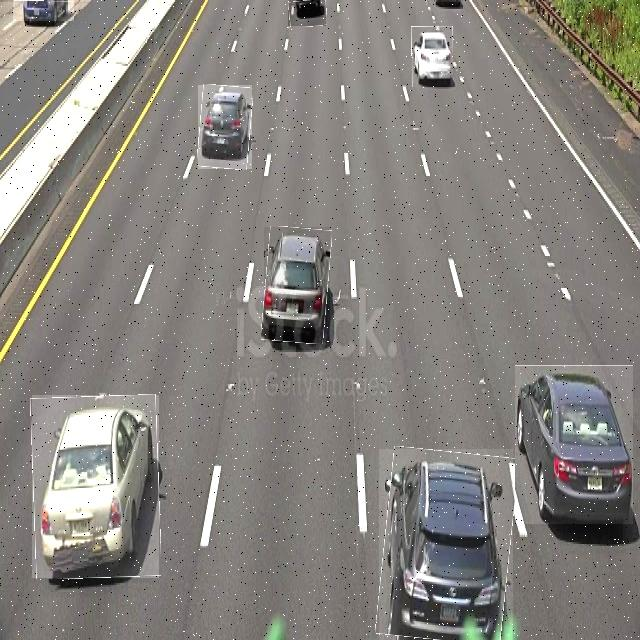Car: (379, 449, 513, 640), (32, 395, 159, 578), (515, 365, 633, 524), (264, 227, 330, 343), (198, 85, 252, 169), (412, 26, 453, 87), (13, 0, 74, 21), (288, 0, 326, 26)
